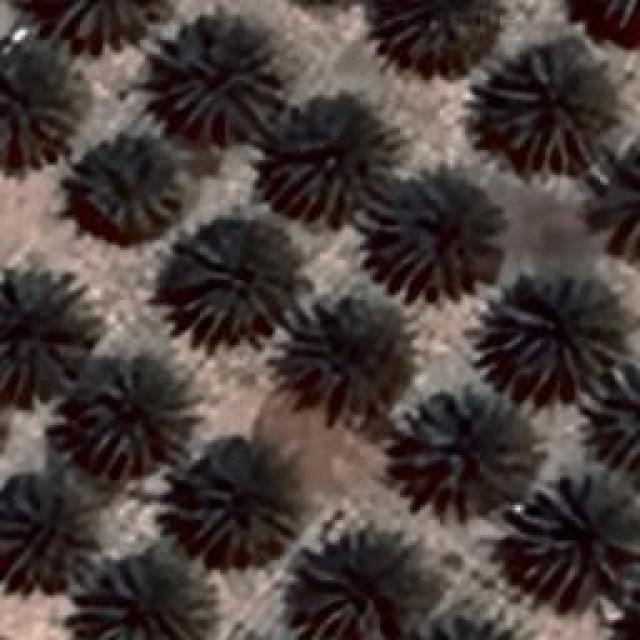PalmTree: (38, 105, 620, 203), (472, 270, 630, 400), (162, 208, 308, 342), (255, 95, 400, 223), (148, 18, 282, 140), (400, 380, 542, 490), (512, 470, 638, 592), (62, 120, 190, 238), (485, 47, 600, 175), (367, 185, 495, 300), (170, 452, 300, 560), (70, 542, 215, 638), (78, 362, 200, 476), (0, 268, 95, 402), (300, 541, 428, 631), (302, 301, 398, 404), (0, 484, 90, 578), (370, 0, 490, 52), (47, 0, 165, 48), (594, 358, 640, 478), (400, 612, 537, 640), (581, 0, 640, 30)
